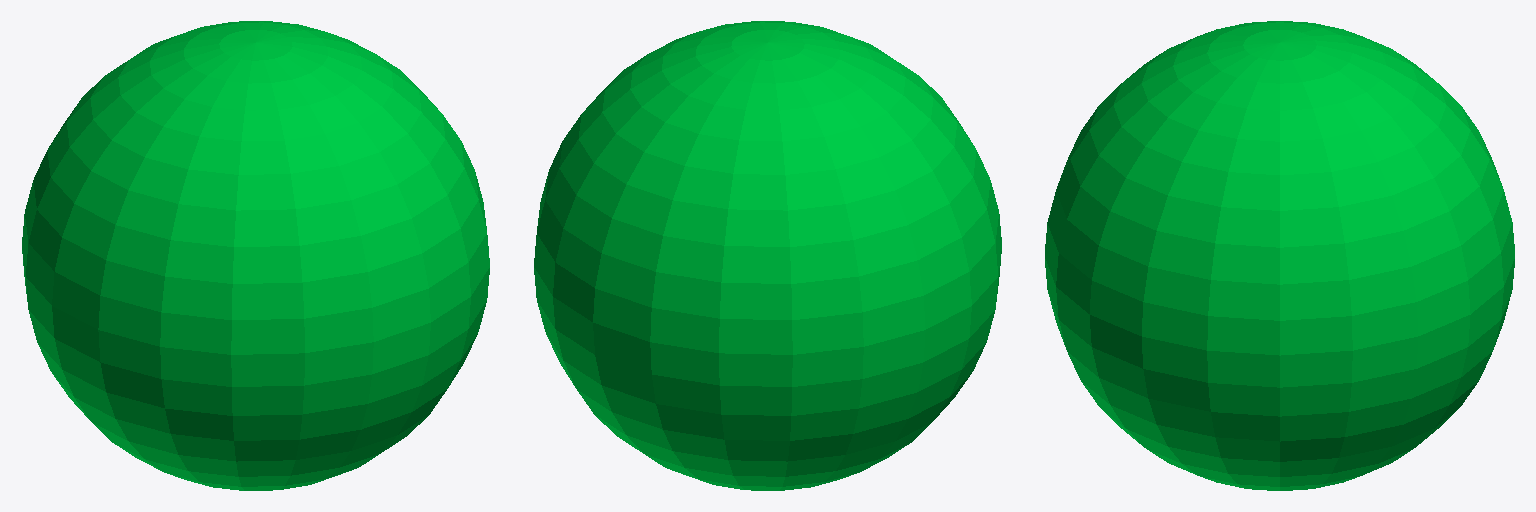
File: ball.obj
The picture shows the model from 3 angles: view 1: azimuth 30°, elevation 25°; view 2: azimuth 150°, elevation 25°; view 3: azimuth 270°, elevation 25°; orthographic projection.
Visible parts, largest first — view 1: pSphere1; view 2: pSphere1; view 3: pSphere1.
Part boxes in pixels (x1,y1,x2,y2): pSphere1: (22,21,489,490); pSphere1: (534,21,1001,490); pSphere1: (1045,21,1514,490).
Size of the model in its own units: 2 by 2 by 2.